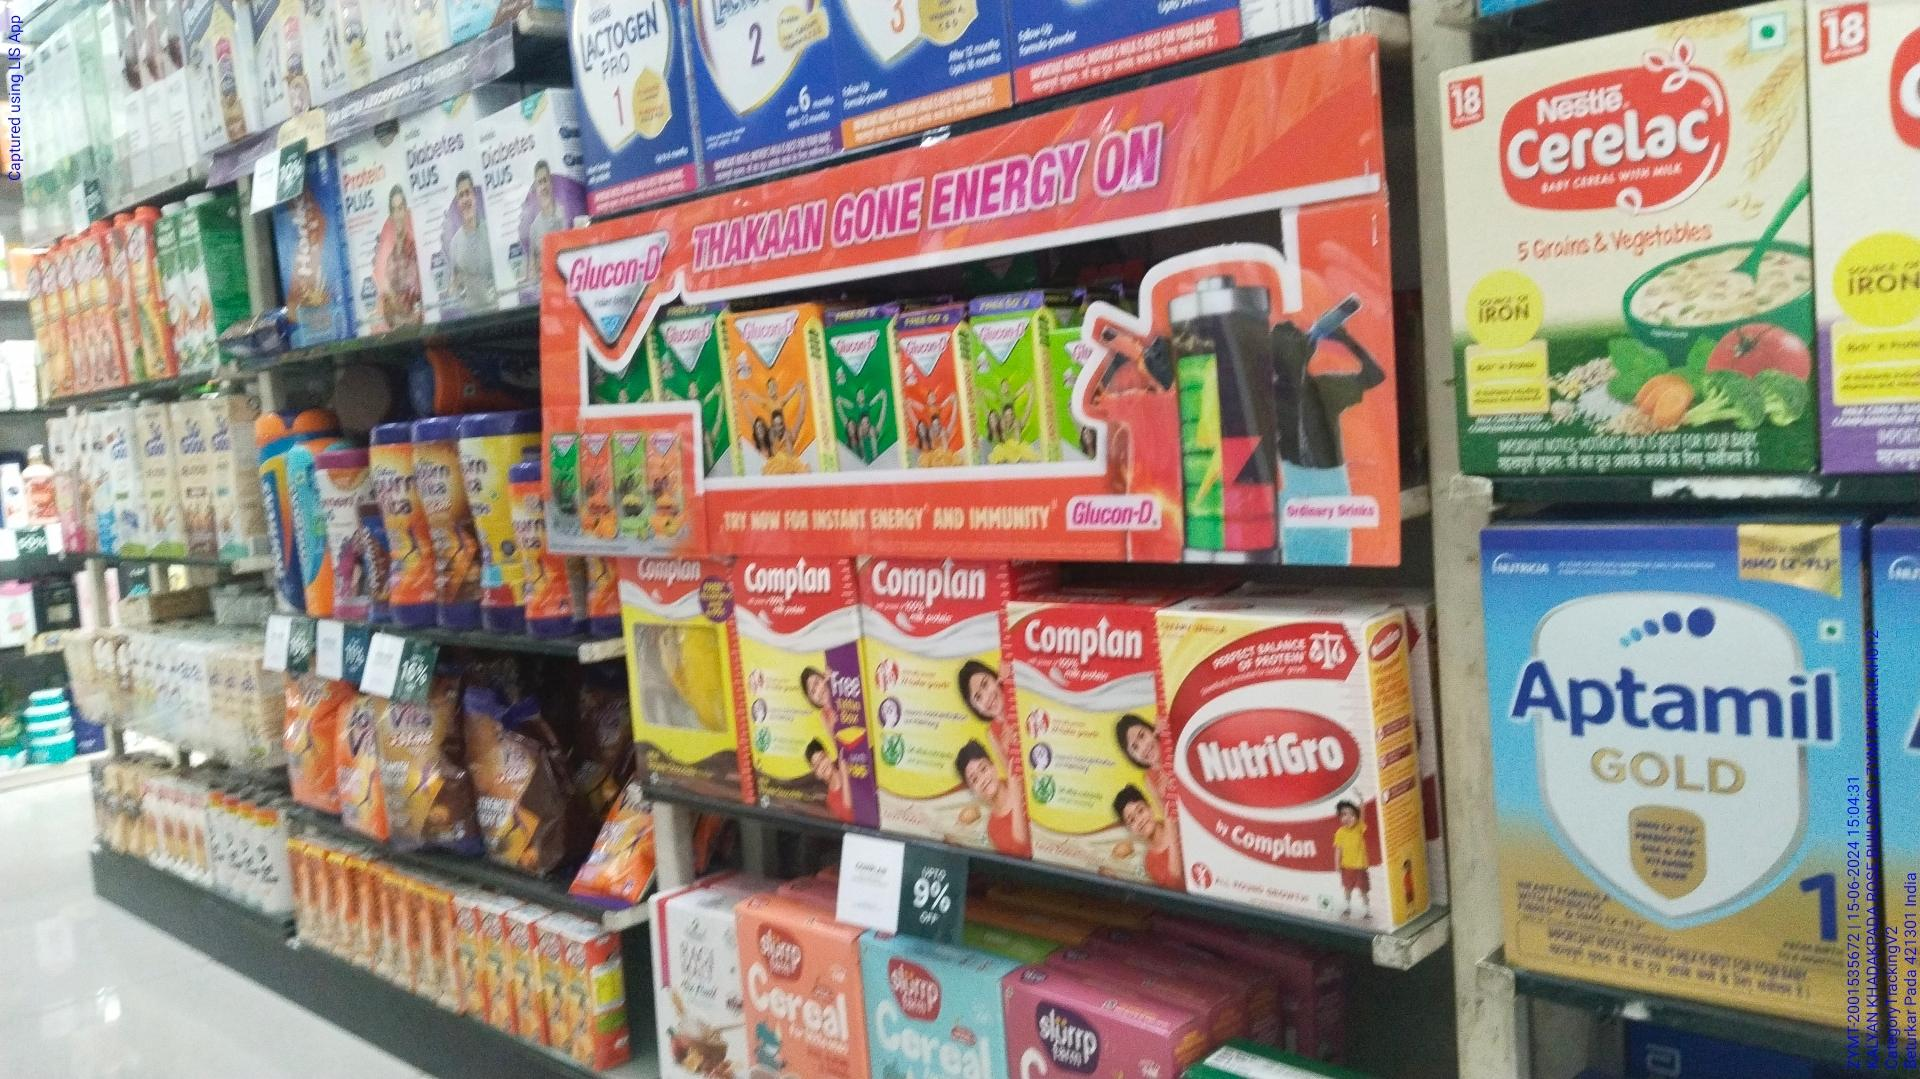COMPLAN_CHOCOLATE_500_GMS_PACK: (741, 557, 877, 820)
COMPLAN_KESAR_BADAM_500_GMS_PACK: (1025, 603, 1178, 881), (880, 559, 1021, 849)
